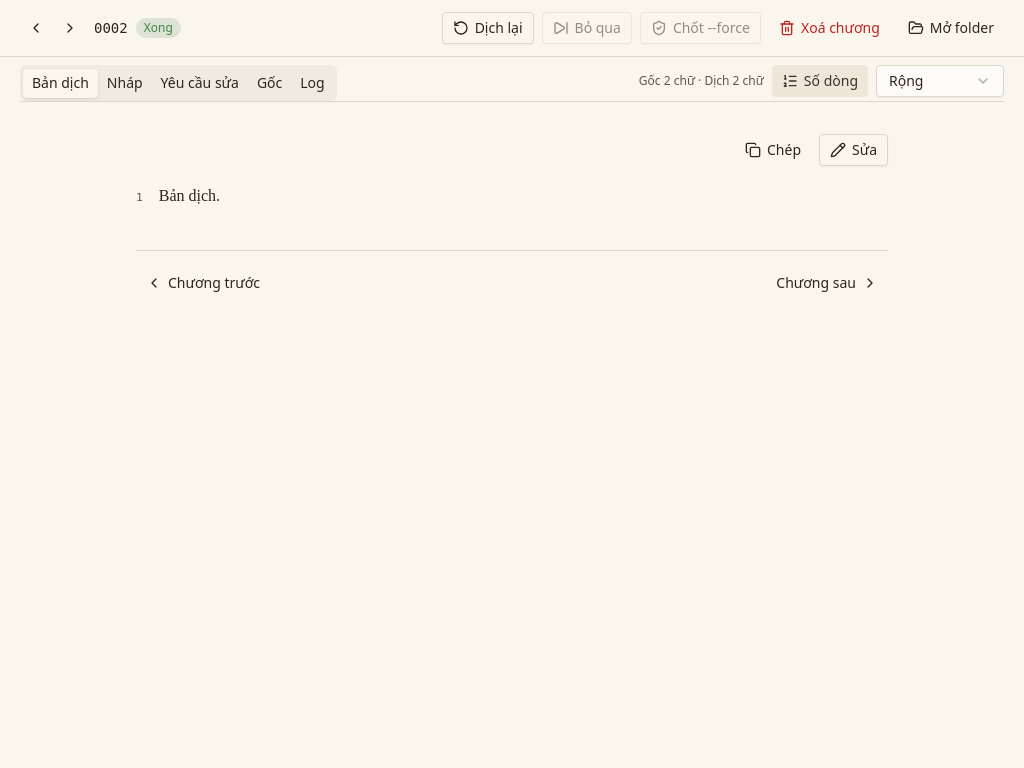
Test: ChapterReader › bản dịch mặc định chỉ đọc; Sửa → textarea, Lưu gọi save_chapter_output rồi đọc lại; Huỷ bỏ thay đổi
Expected: the text "Bản dịch." is shown, left=159, top=187, right=220, bottom=204
Click the button "Sửa".
click(854, 150)  # box left=819, top=134, right=888, bottom=166
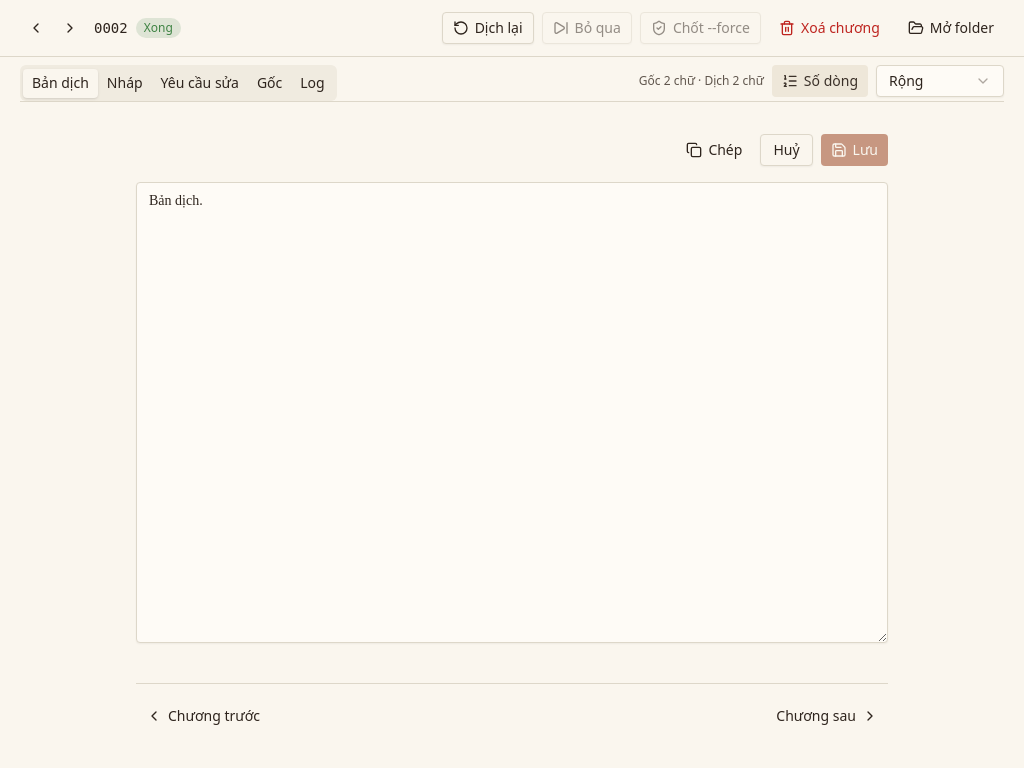
Expected: the text box named "Bản dịch đang sửa" holds "Bản dịch."
Expected: the button "Lưu" is disabled, left=821, top=134, right=888, bottom=166
Replace the text in the text box named "Bản dịch đang sửa" with "Bản người sửa." at (512, 412), box left=136, top=182, right=888, bottom=643
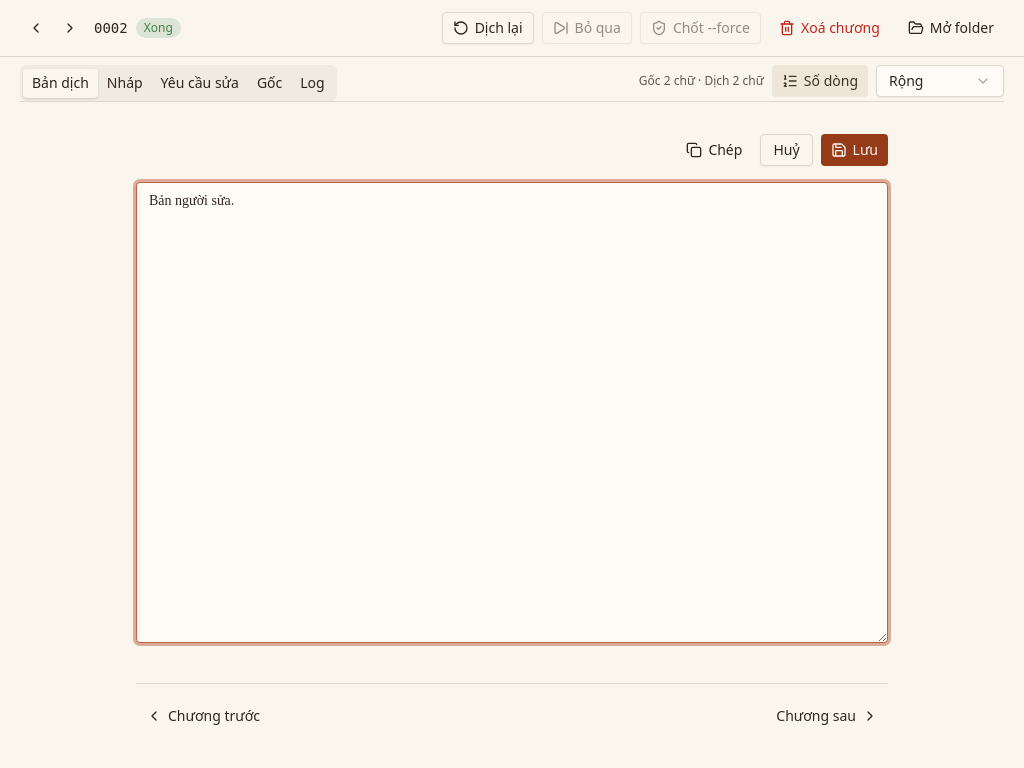
Click the button "Huỷ".
click(786, 150)  # box left=760, top=134, right=813, bottom=166
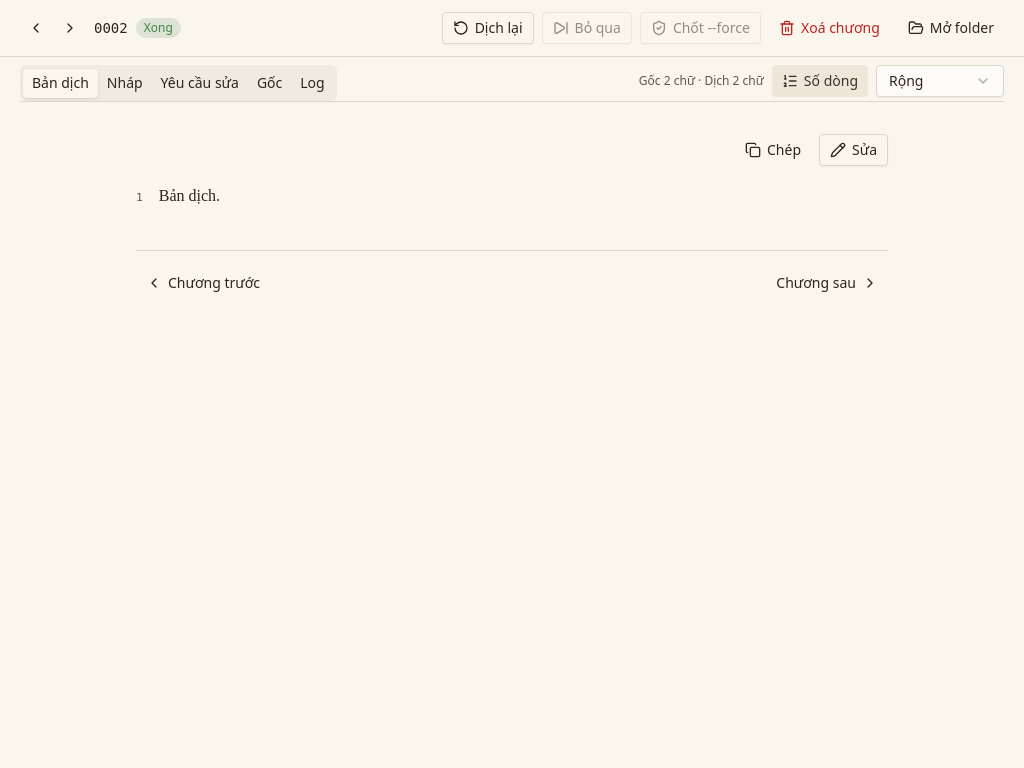
Click the button "Sửa".
click(854, 150)  # box left=819, top=134, right=888, bottom=166
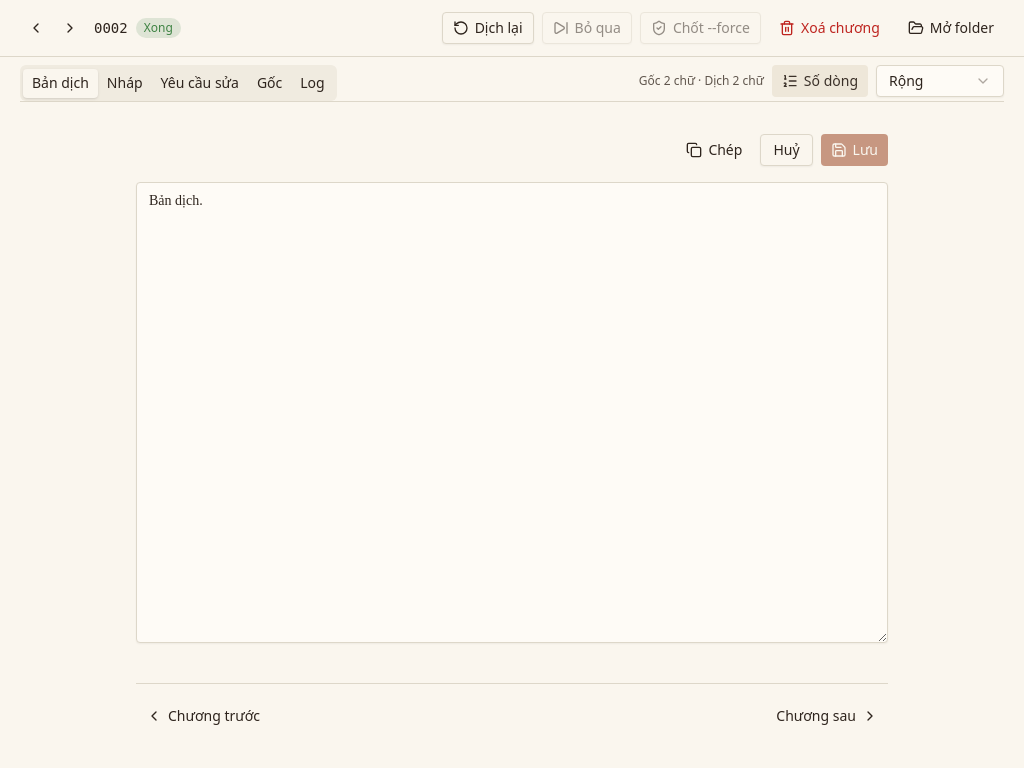
Replace the text in the text box named "Bản dịch đang sửa" with "Bản người sửa." at (512, 412), box left=136, top=182, right=888, bottom=643
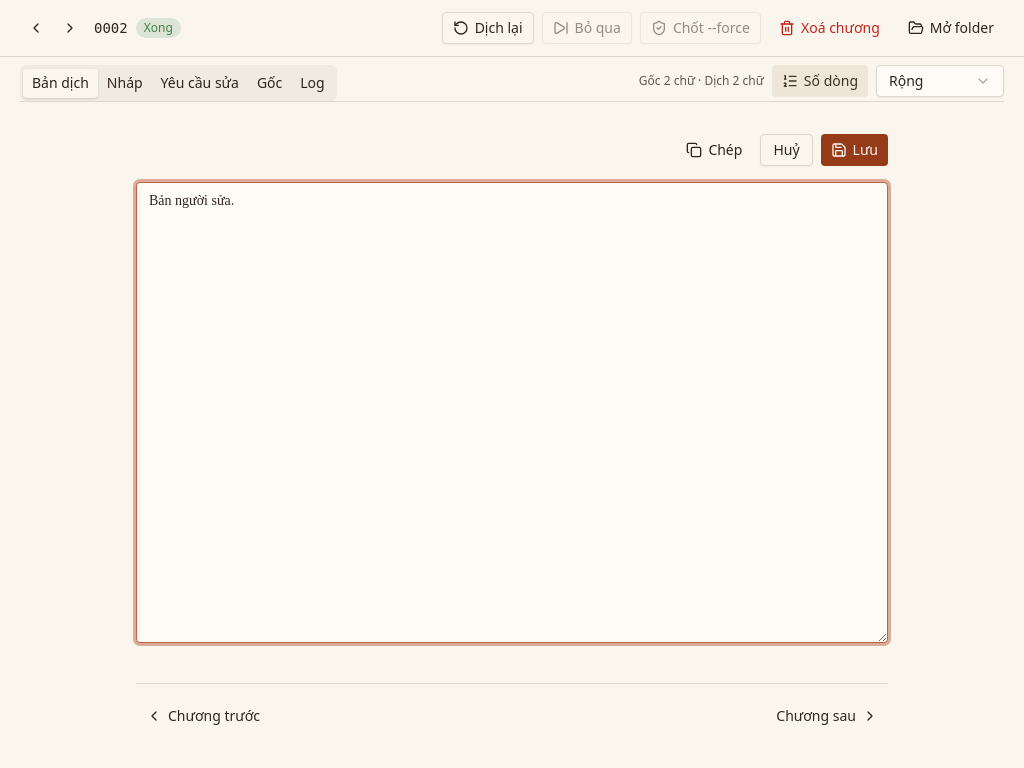
Type keys "{Control>}s{/Control}"
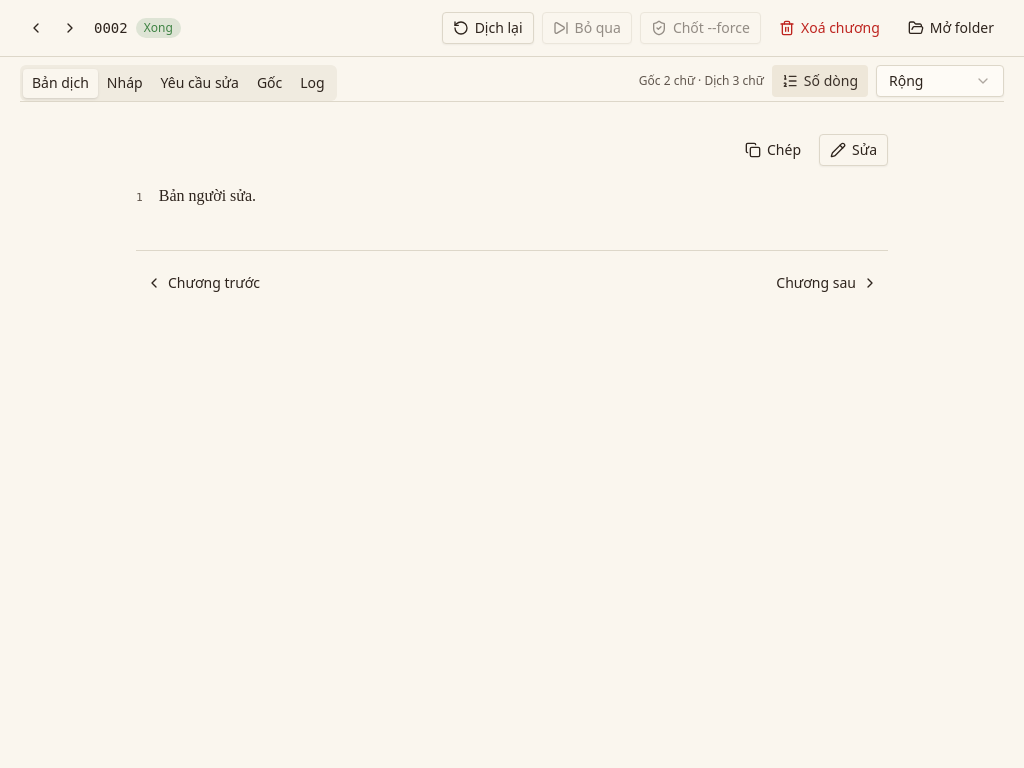
Expected: the text "Bản người sửa." is shown, left=159, top=187, right=256, bottom=204
